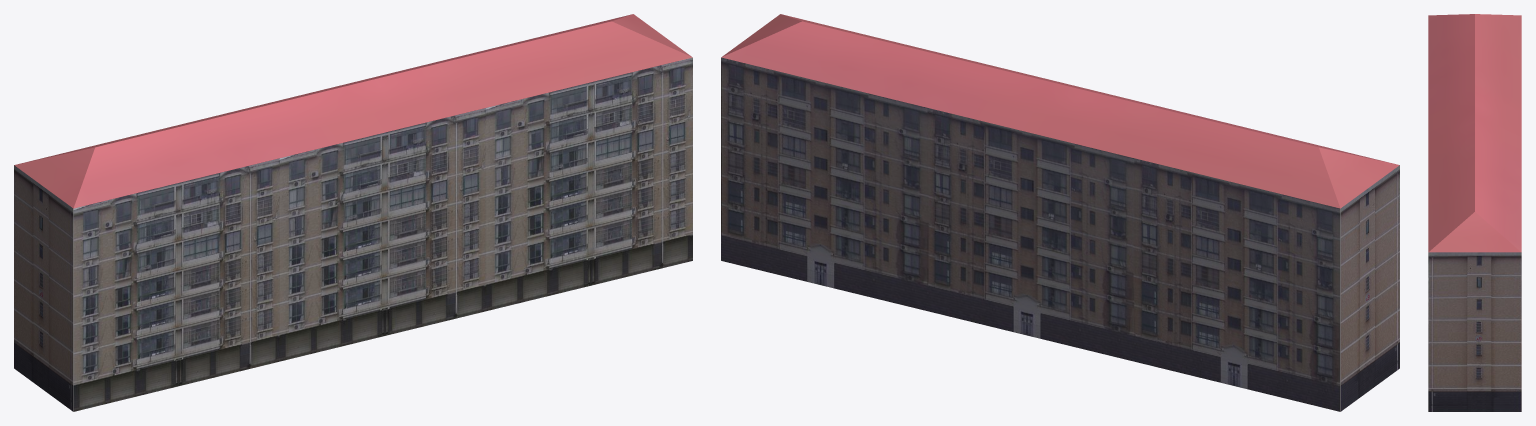
The model's file is jsgy_a9.gltf.
3 renders of one model, left to right at view 1: azimuth 30°, elevation 25°; view 2: azimuth 150°, elevation 25°; view 3: azimuth 270°, elevation 25°, orthographic. The views are drawn at different scales.
Parts seen in each view (by area): view 1: Model#13; view 2: Model#13; view 3: Model#13.
Boxes of the visible parts, x1=… form: Model#13: x1=14, y1=14, x2=692, y2=411; Model#13: x1=721, y1=14, x2=1399, y2=411; Model#13: x1=1428, y1=14, x2=1521, y2=411.
Size of the model in its own units: 0.0701 by 0.0249 by 0.0116.
4 materials, 4 textured.
